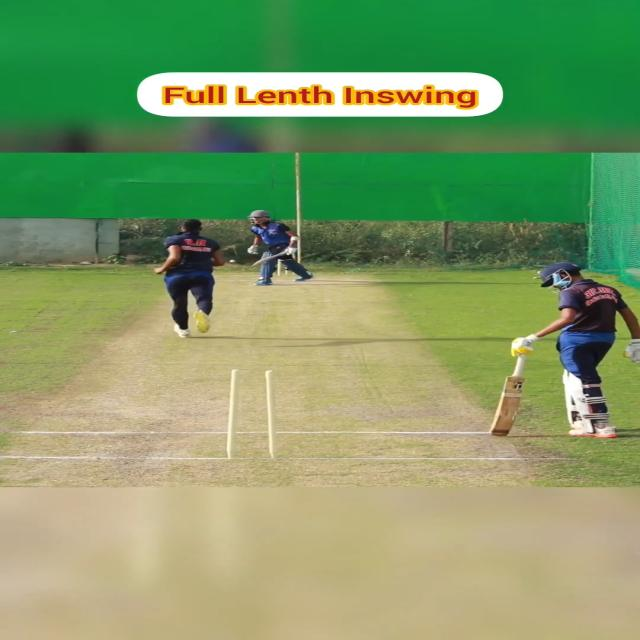ball: (228, 259, 237, 264)
stump: (226, 368, 280, 459)
